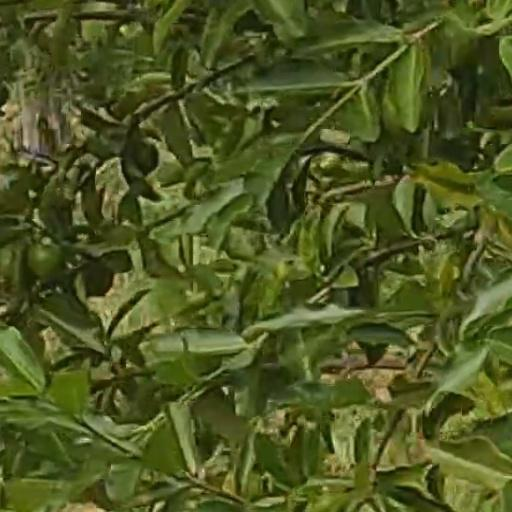acerola: (30, 243, 62, 279)
